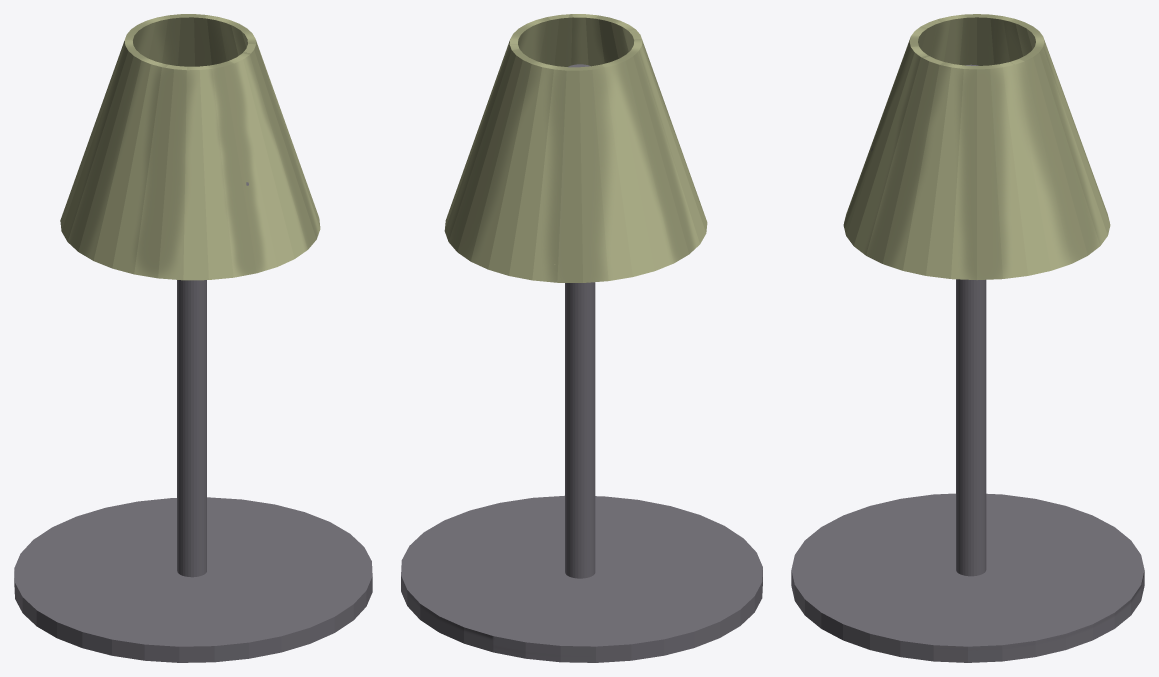
The model's file is Lampara_Grande.fbx.
The picture shows the model from 3 angles, left to right: view 1: azimuth 30°, elevation 25°; view 2: azimuth 150°, elevation 25°; view 3: azimuth 270°, elevation 25°; orthographic projection.
Parts seen in each view (by area): view 1: lamp_1; view 2: lamp_1; view 3: lamp_1.
Part boxes in pixels (x1,y1,x2,y2): lamp_1: (14, 14, 372, 662); lamp_1: (401, 14, 762, 662); lamp_1: (791, 14, 1144, 662).
Size of the model in its own units: 313 by 517 by 303.
